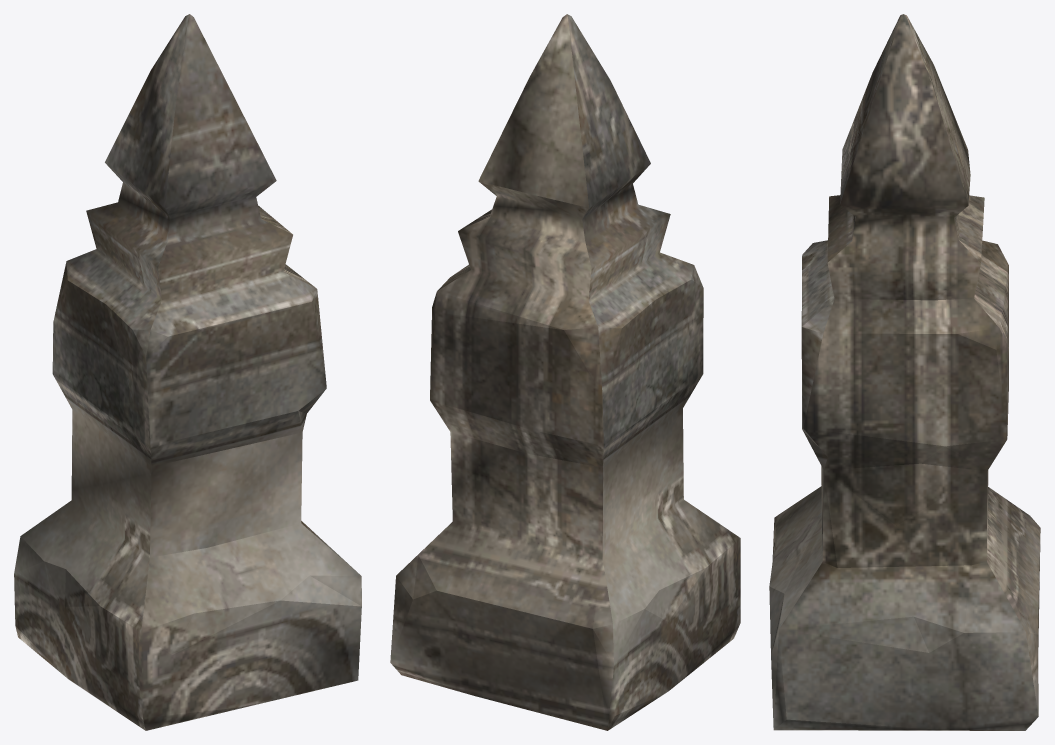
The model's file is bg_lut_lutomb_fence02_sm_old.FBX.
3 views of the same model, side by side, from view 1: azimuth 30°, elevation 25°; view 2: azimuth 150°, elevation 25°; view 3: azimuth 270°, elevation 25° (orthographic). The views are drawn at different scales.
Parts seen in each view (by area): view 1: bg_lut_lutomb_fence02_sm_old; view 2: bg_lut_lutomb_fence02_sm_old; view 3: bg_lut_lutomb_fence02_sm_old.
Part boxes in pixels (left/top/right/bottom): bg_lut_lutomb_fence02_sm_old: left=14, top=14, right=361, bottom=730; bg_lut_lutomb_fence02_sm_old: left=390, top=14, right=740, bottom=730; bg_lut_lutomb_fence02_sm_old: left=769, top=14, right=1040, bottom=730.
Bounding box in the file's own units: 48.7 × 132 × 48.78.
